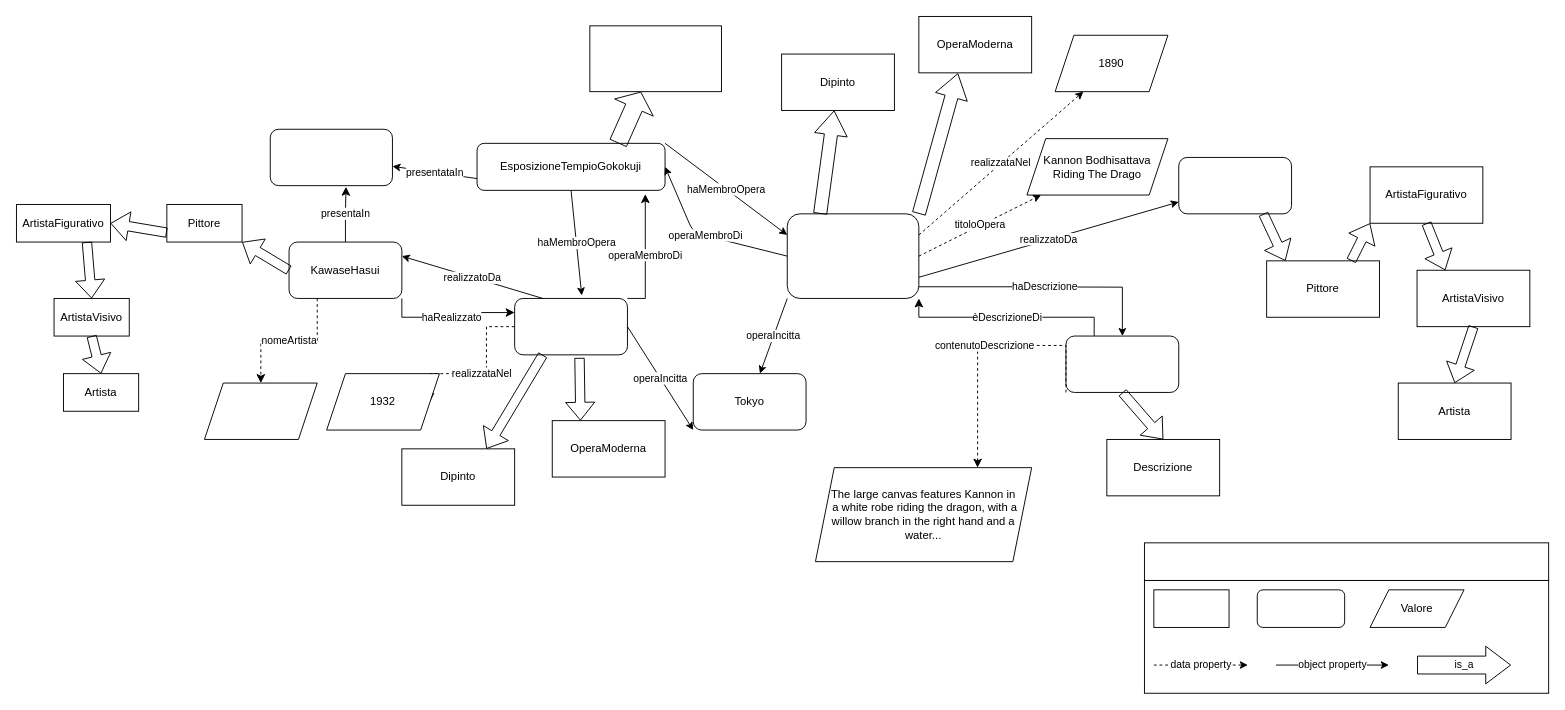
Some shapes in this 1565 by 710 pixel diagram are drawn without their labels. Here are the shapes that lost their labels. From the top down, the centre of each, then its label:
At (x=655, y=58): "CollezioneArteOrientale".
At (x=330, y=157): "MuseoNazionale DiArteModernaTokyo".
At (x=1235, y=185): "HaradaNaojiro".
At (x=852, y=255): "KannonBodhisattva RidingTheDrago".
At (x=570, y=326): "SpringRain".
At (x=1122, y=363): "DescrizioneKannon".
At (x=260, y=410): "Kawase Hasui".
At (x=1346, y=561): "LEGENDA".
At (x=1191, y=608): "Classe".
At (x=1300, y=608): "Individuo".
